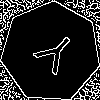Y: (25, 27, 81, 83)
